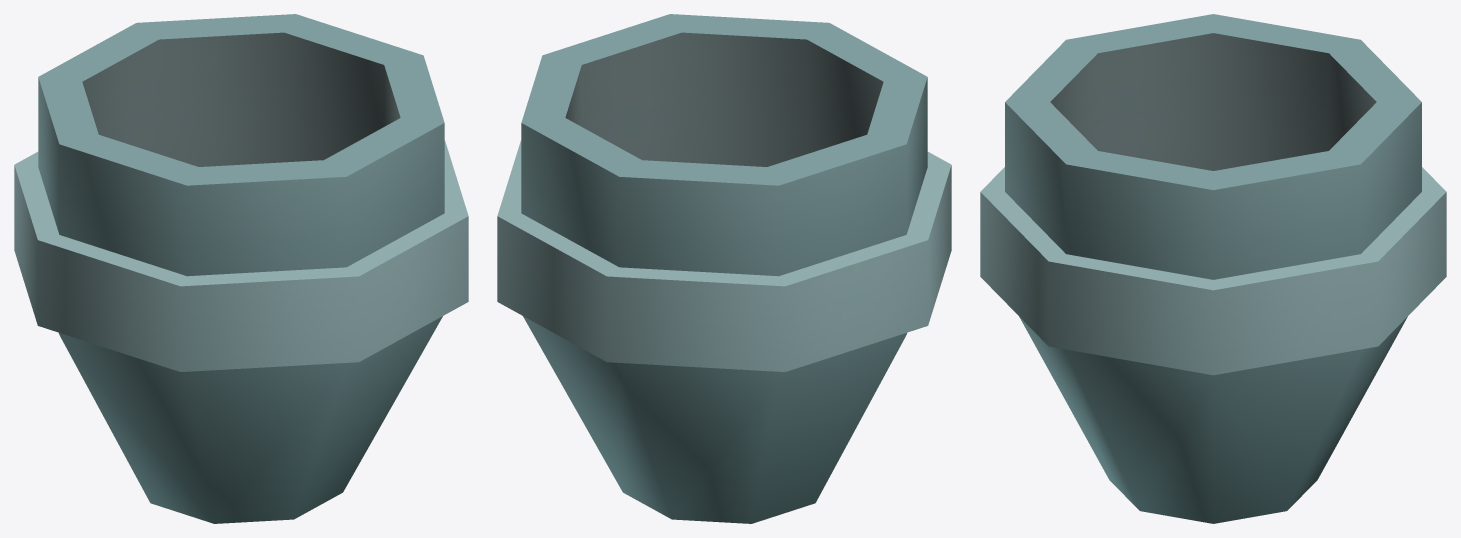
Rendered from hopper-round.glb.
3 renders of one model, left to right at view 1: azimuth 30°, elevation 25°; view 2: azimuth 150°, elevation 25°; view 3: azimuth 270°, elevation 25°, orthographic.
Visible parts, largest first — view 1: hopper-round; view 2: hopper-round; view 3: hopper-round.
Part boxes in pixels (bbox=[...]): hopper-round: bbox=[14, 14, 468, 523]; hopper-round: bbox=[497, 14, 951, 523]; hopper-round: bbox=[980, 14, 1446, 523].
Size of the model in its own units: 1.12 by 1 by 1.12.
1 material, 1 textured.
